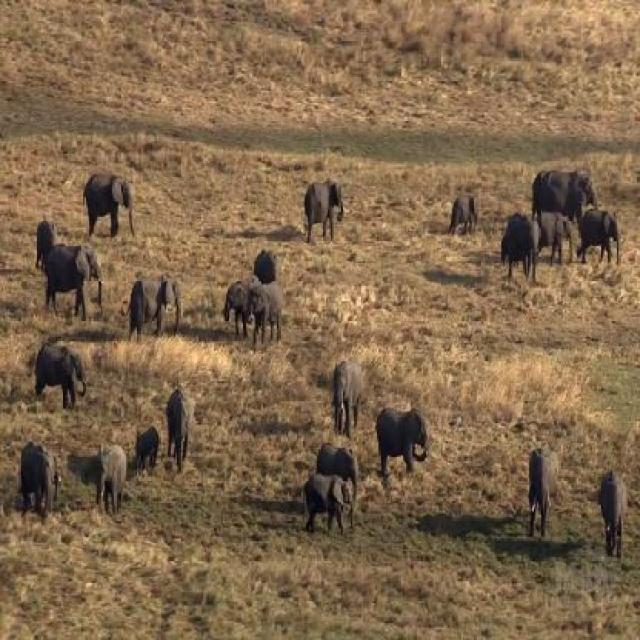elephant: (39, 240, 122, 322), (26, 336, 111, 406), (84, 160, 148, 242), (530, 147, 588, 228), (130, 254, 188, 332), (298, 464, 357, 538), (528, 431, 561, 555), (215, 272, 268, 346), (384, 381, 428, 468), (596, 462, 629, 576), (85, 430, 123, 528), (15, 439, 57, 523), (573, 200, 629, 263), (308, 160, 346, 248), (130, 409, 167, 494), (532, 212, 576, 282), (502, 195, 532, 296), (175, 372, 202, 482), (314, 431, 366, 483), (438, 188, 488, 241), (244, 296, 296, 342), (30, 210, 64, 279), (337, 342, 368, 416)
